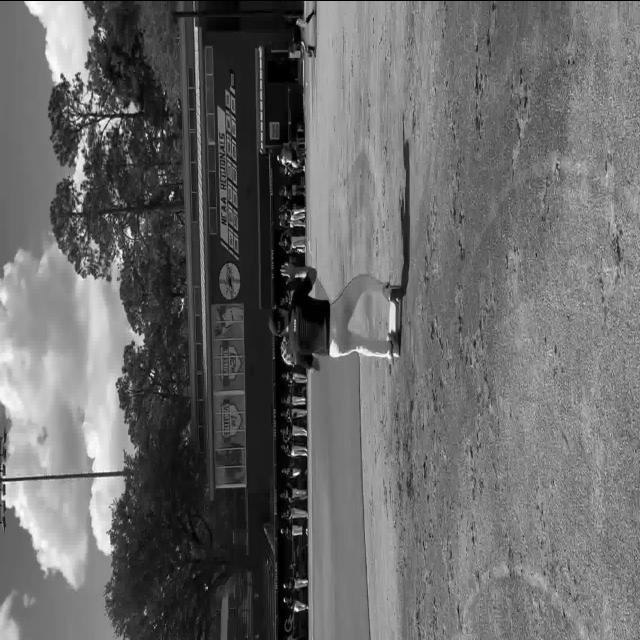base: (389, 300, 401, 333)
baseball_glove: (281, 333, 296, 364)
shoe: (386, 282, 405, 302), (389, 331, 401, 358)
